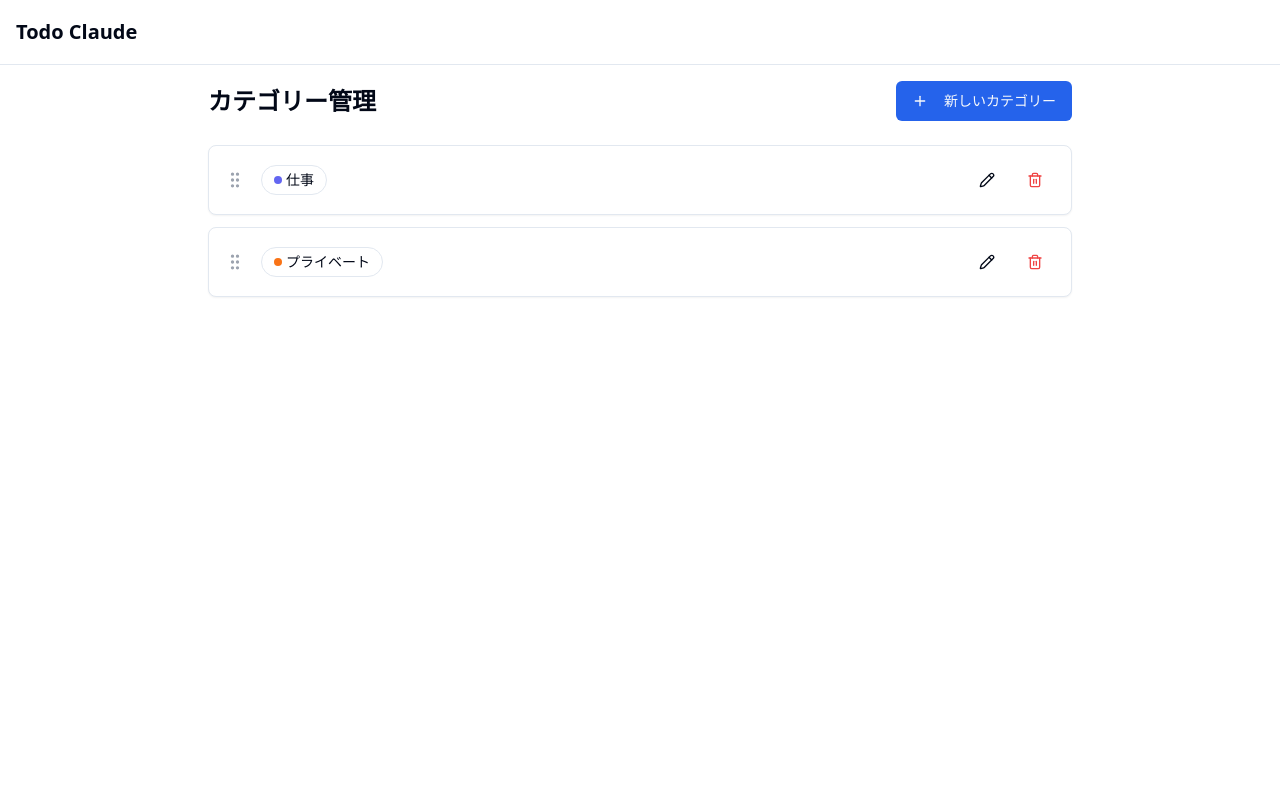
it: CategoriesPage › should show delete confirmation dialog
This screenshot has width=1280, height=800.
Step 1. Click the button named "仕事を削除" → click(1035, 180), box top-left (1015, 162), bottom-right (1055, 198)
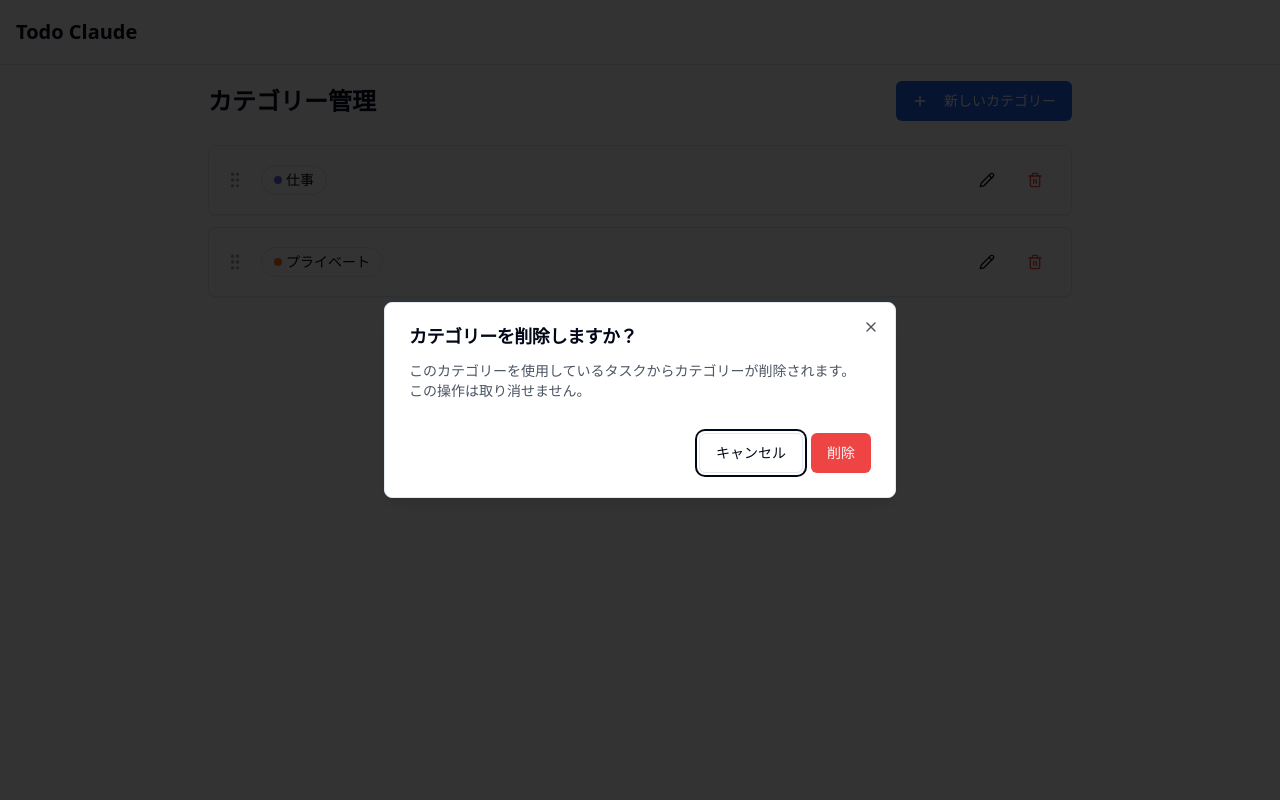
Check: the heading "カテゴリーを削除しますか？" is shown, box top-left (409, 324), bottom-right (637, 348)
